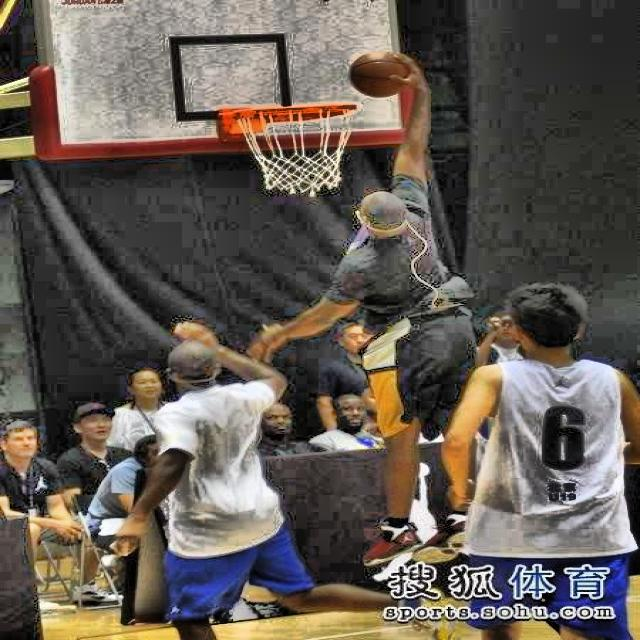rim: (225, 103, 362, 198), (350, 51, 409, 99)
